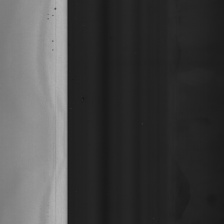oil_spot: (46, 6, 58, 23), (49, 36, 57, 56)
